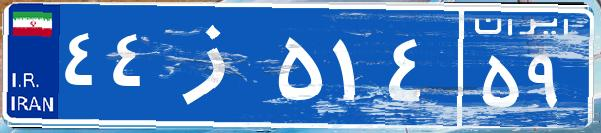1: (330, 28, 385, 110)
4: (385, 28, 445, 110), (57, 26, 110, 107), (110, 28, 158, 105)
5: (273, 28, 330, 110), (475, 38, 525, 113)
9: (525, 38, 570, 115)
ز: (158, 15, 273, 115)
